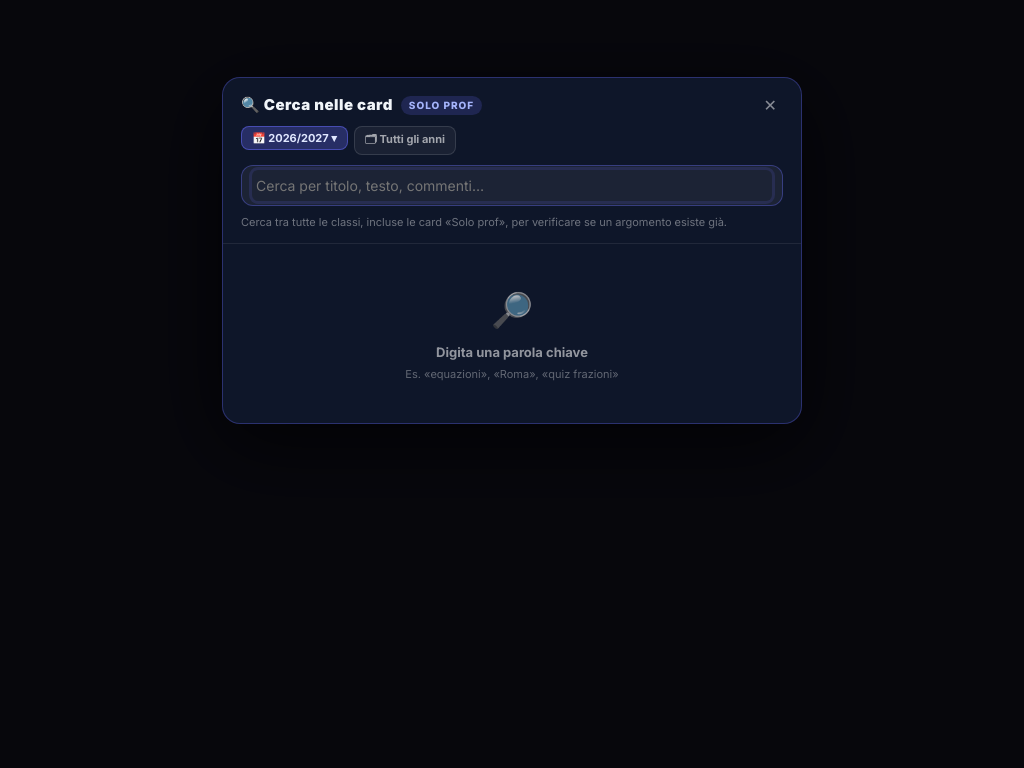
CercaModal › debounces la ricerca: nessun risultato prima del delay, poi appare
This screenshot has width=1024, height=768.
Type "Roma" into the field named "Cerca card" at (512, 186), box [252, 170, 772, 201]
Wait 350 ms
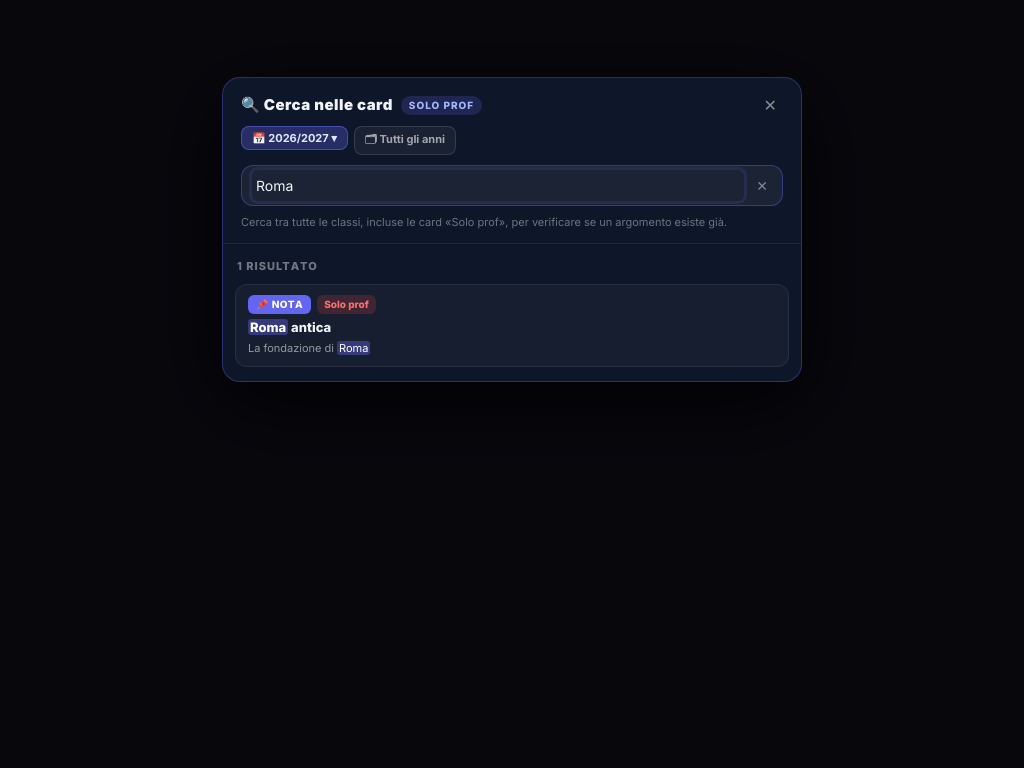
Check: the button "📌 NOTA Solo prof Roma antica La fondazione di Roma" is shown, box [235, 284, 789, 367]
